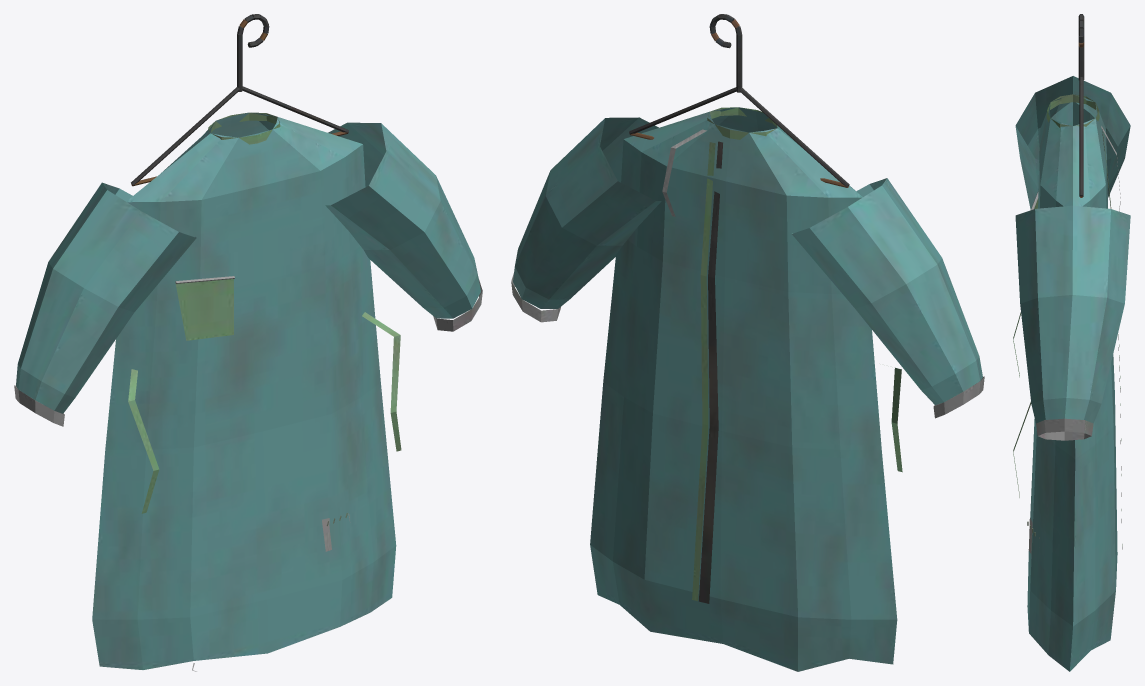
Rendered from HE09_surgical_gown_on_hook.glb.
3 renders of one model, left to right at view 1: azimuth 30°, elevation 25°; view 2: azimuth 150°, elevation 25°; view 3: azimuth 270°, elevation 25°, orthographic. The views are drawn at different scales.
Parts seen in each view (by area): view 1: Long open-hem surgical gown; view 2: Long open-hem surgical gown; view 3: Long open-hem surgical gown.
Boxes of the visible parts, x1=… form: Long open-hem surgical gown: x1=14, y1=14, x2=482, y2=671; Long open-hem surgical gown: x1=511, y1=14, x2=984, y2=671; Long open-hem surgical gown: x1=1013, y1=14, x2=1130, y2=671.
Bounding box in the file's own units: 0.9342 × 1.2 × 0.2127.
6 materials, 6 textured.
